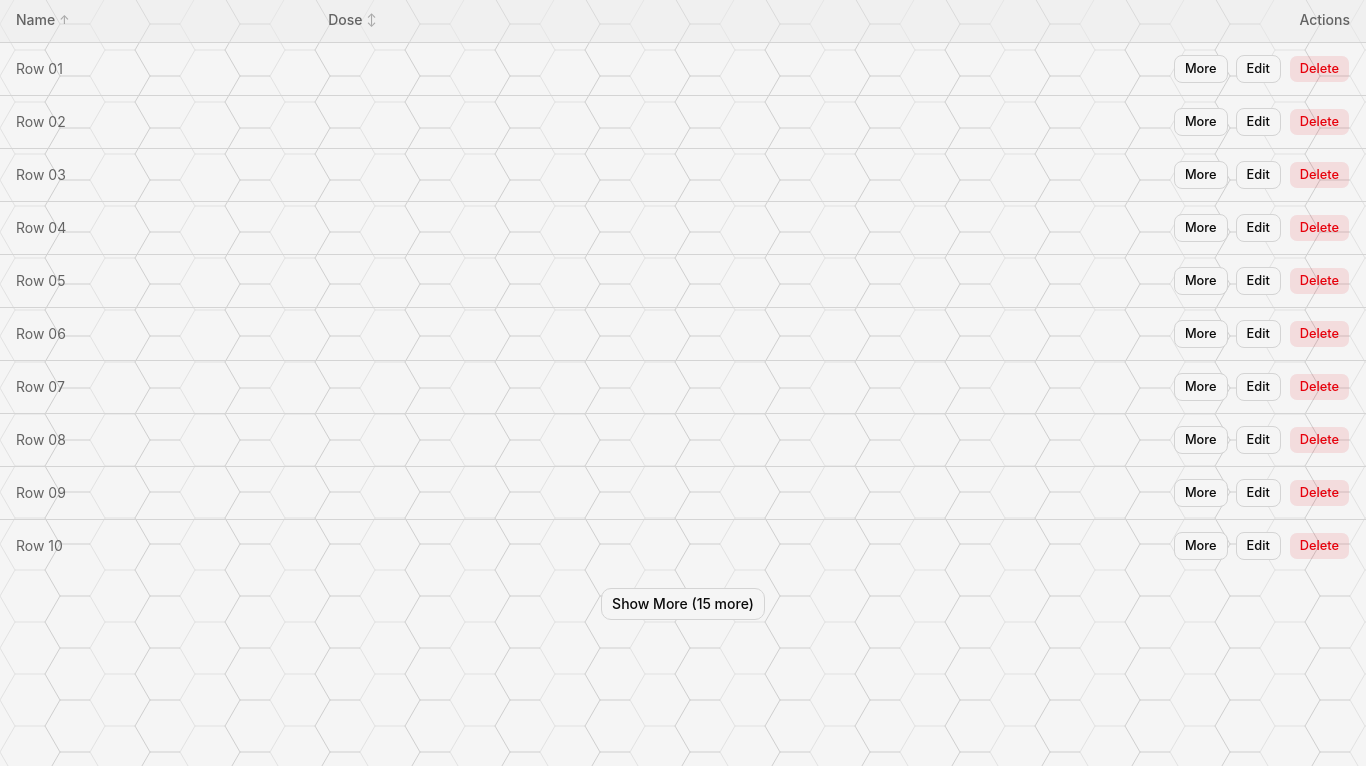
Test case: RecordTable › hides Show More once all rows are visible
This screenshot has width=1366, height=766.
Click the button "Show More (15 more)" at (683, 604), box [601,588,765,620]
(page scrolled)
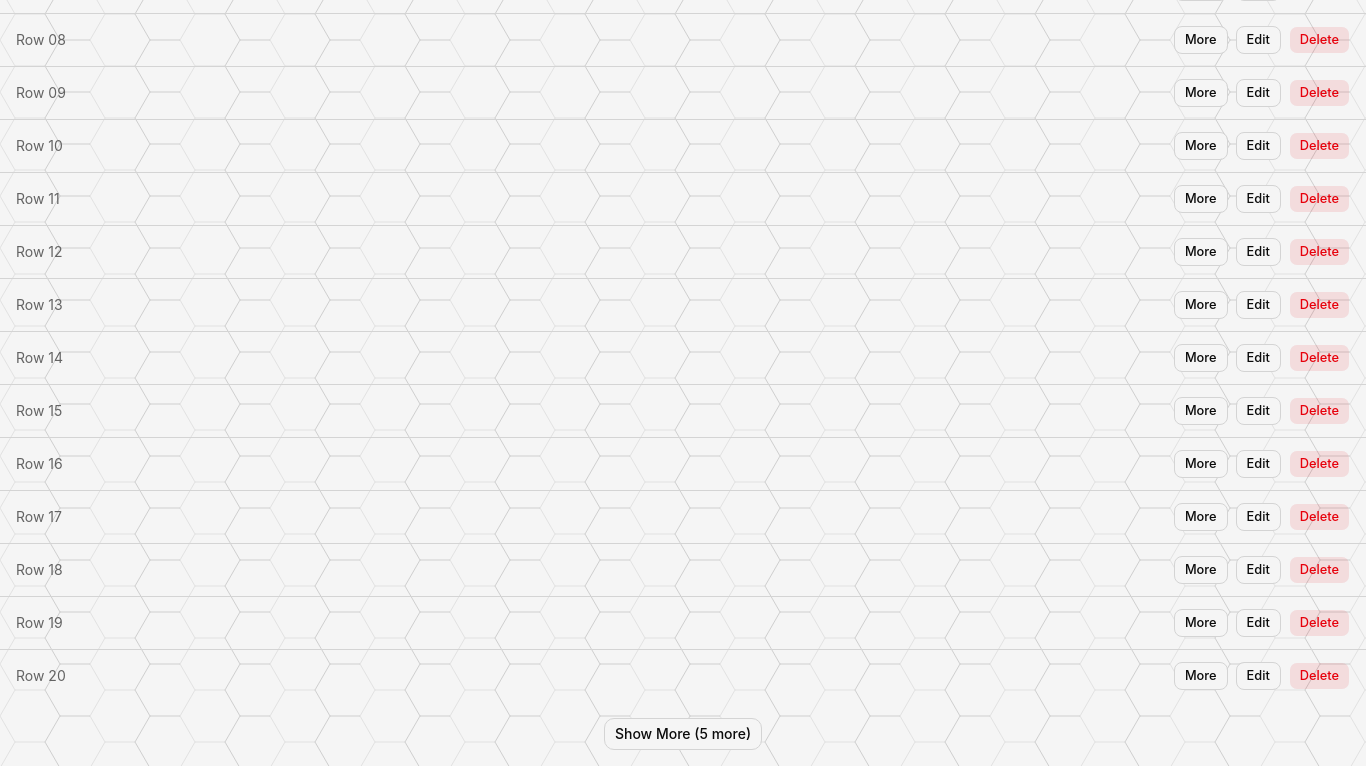
Click the button "Show More (5 more)" at (683, 734), box [604,718,762,750]
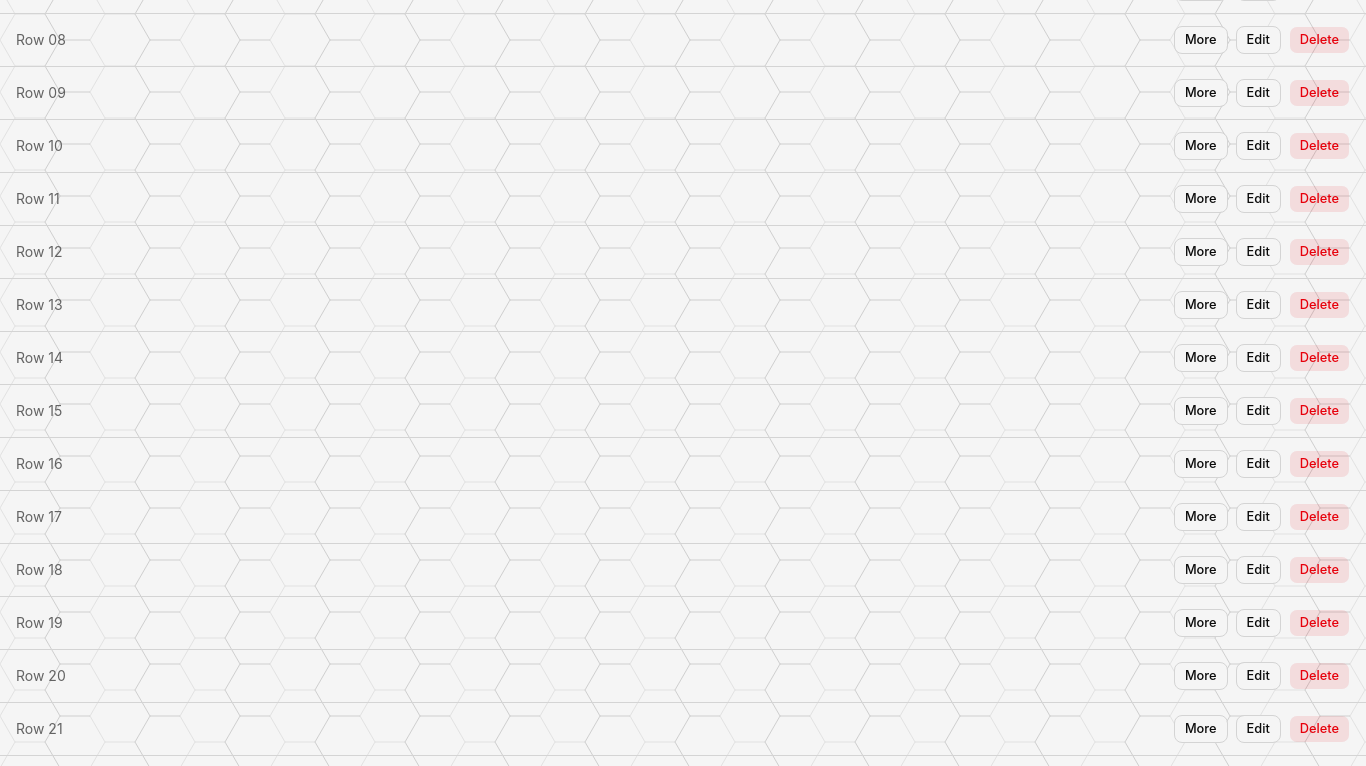
Now the button "Show More" is gone
